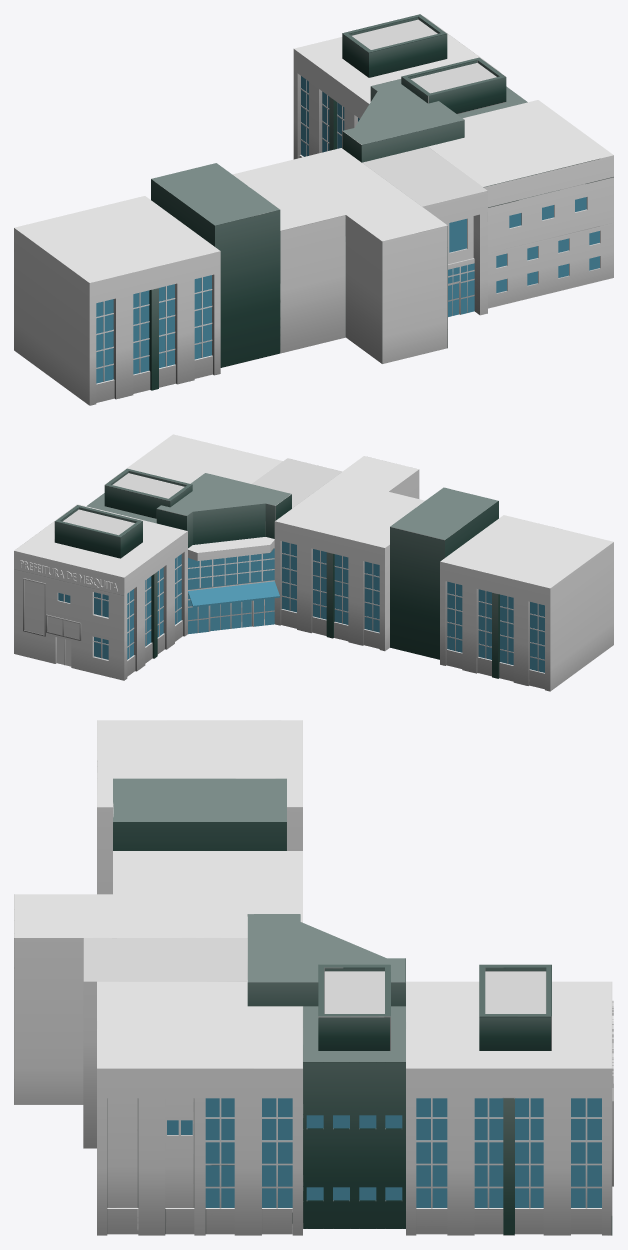
Rendered from Prefeitura.fbx.
3 views of the same model, one above another, from view 1: azimuth 30°, elevation 25°; view 2: azimuth 150°, elevation 25°; view 3: azimuth 270°, elevation 25° (orthographic). The views are drawn at different scales.
Parts seen in each view (by area): view 1: Prefeitura; view 2: Prefeitura; view 3: Prefeitura.
Boxes of the visible parts, box(x1,y1,x2,y2) form: Prefeitura: box(14, 14, 613, 405); Prefeitura: box(14, 434, 613, 691); Prefeitura: box(14, 720, 613, 1235).
Size of the model in its own units: 1600 by 431 by 1165.
3 materials, 1 textured.
